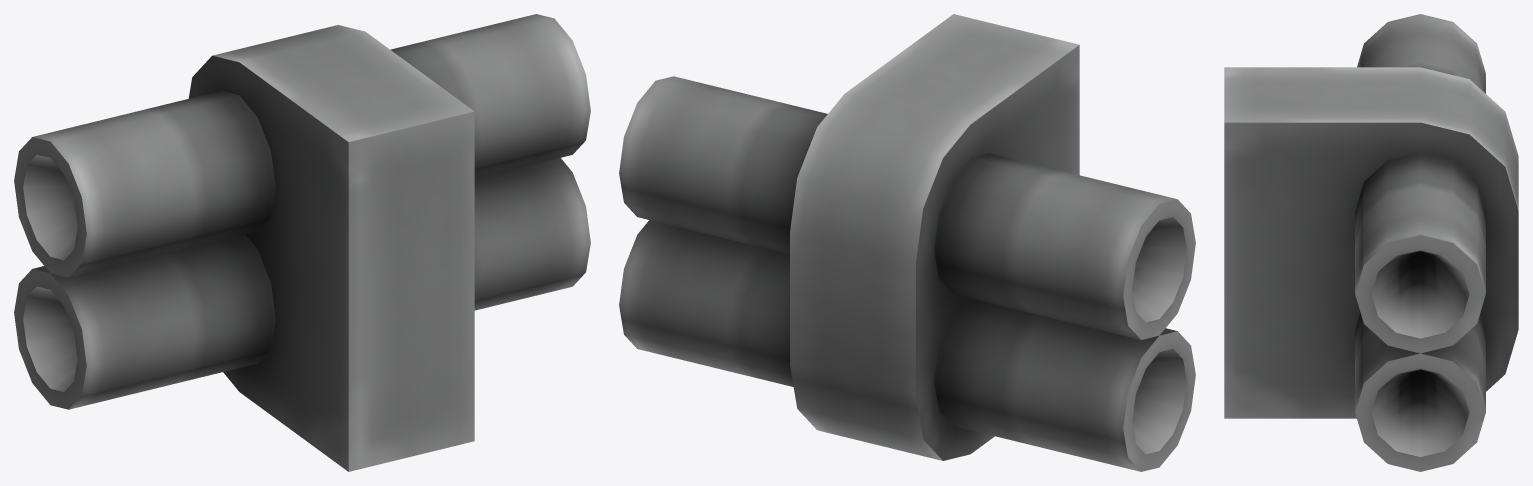
File: octans_basic_rcs_srf_4.obj
3 renders of one model, left to right at view 1: azimuth 30°, elevation 25°; view 2: azimuth 150°, elevation 25°; view 3: azimuth 270°, elevation 25°, orthographic. The views are drawn at different scales.
Parts seen in each view (by area): view 1: mesh; view 2: mesh; view 3: mesh.
Part boxes in pixels (x1,y1,x2,y2): mesh: (14, 14, 590, 471); mesh: (619, 14, 1195, 471); mesh: (1224, 14, 1518, 471).
Size of the model in its own units: 0.2 by 0.125 by 0.1125.
